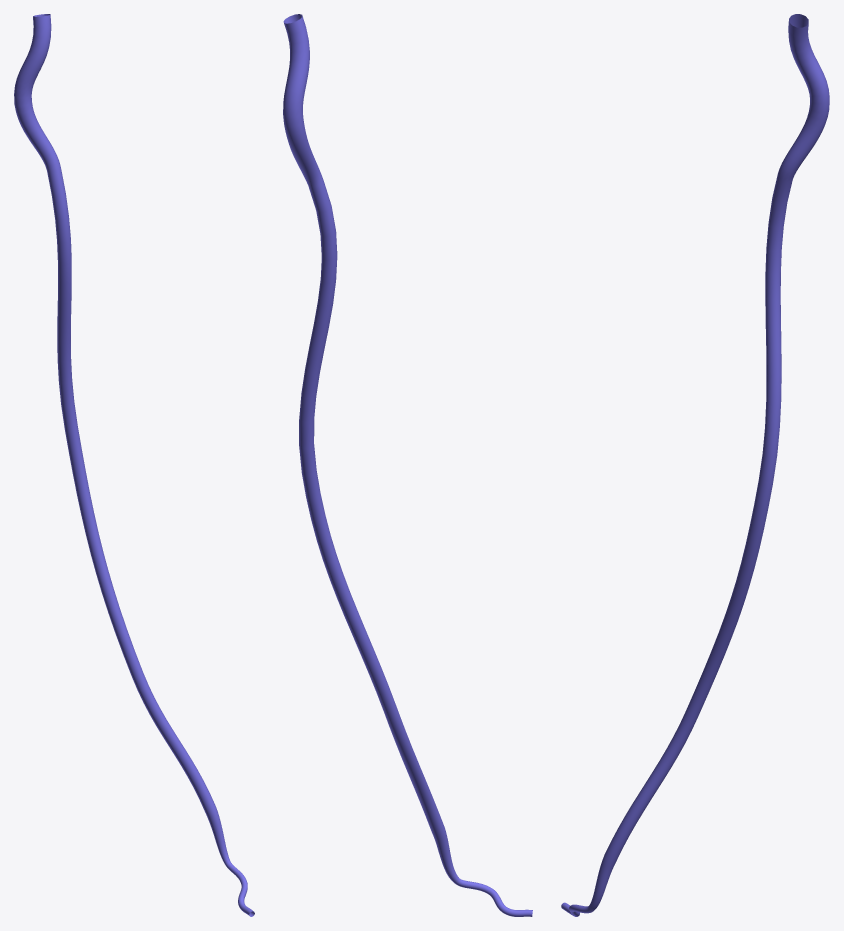
File: Ulnar_veins.r_BezierCurve.351.glb
3 renders of one model, left to right at view 1: azimuth 90°, elevation 25°; view 2: azimuth 150°, elevation 25°; view 3: azimuth 270°, elevation 25°, orthographic. The views are drawn at different scales.
Parts seen in each view (by area): view 1: Ulnar_veins.r_BezierCurve.351; view 2: Ulnar_veins.r_BezierCurve.351; view 3: Ulnar_veins.r_BezierCurve.351.
Part boxes in pixels (left/top/right/bottom): Ulnar_veins.r_BezierCurve.351: left=14, top=14, right=254, bottom=916; Ulnar_veins.r_BezierCurve.351: left=283, top=14, right=532, bottom=916; Ulnar_veins.r_BezierCurve.351: left=561, top=14, right=829, bottom=916.
Size of the model in its own units: 0.0296 by 0.207 by 0.053.
